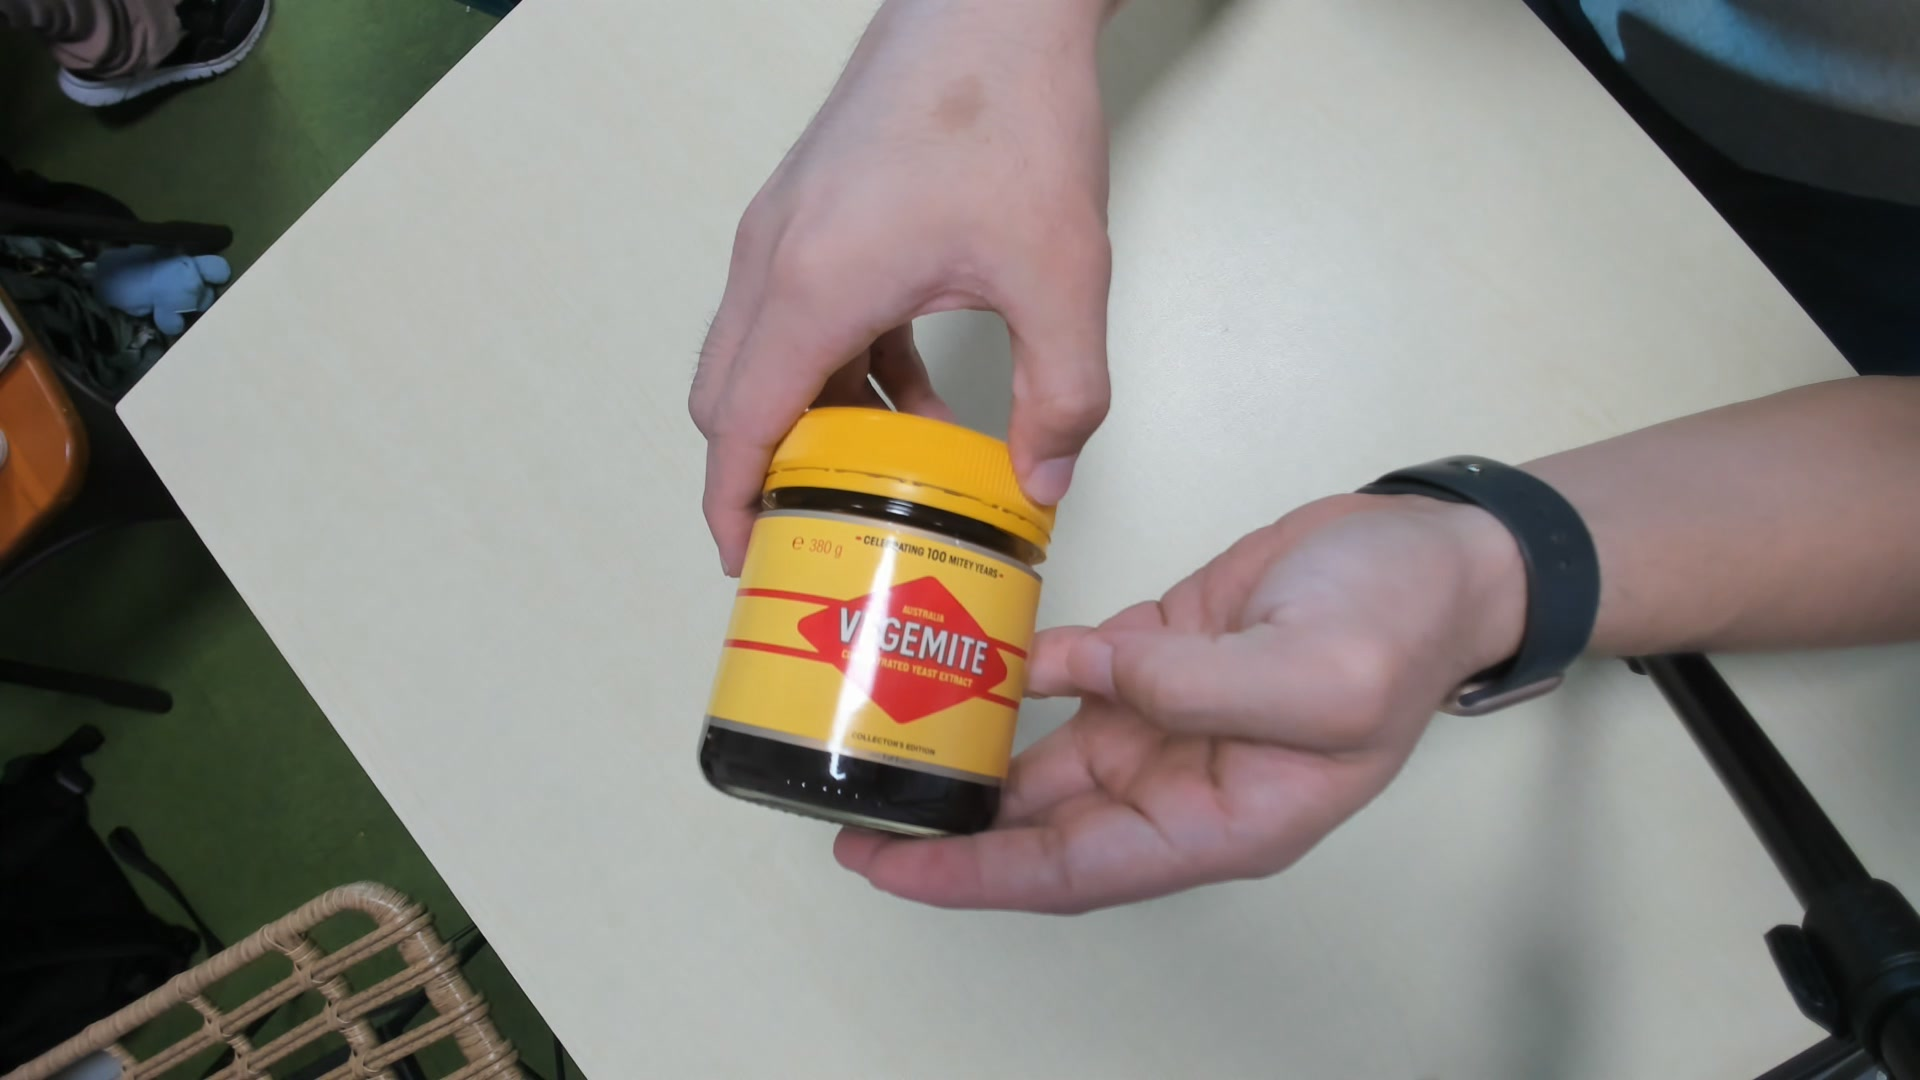OtherSauceDressing_300-399g_Halal_NonHealthy: (698, 409, 1056, 839)
